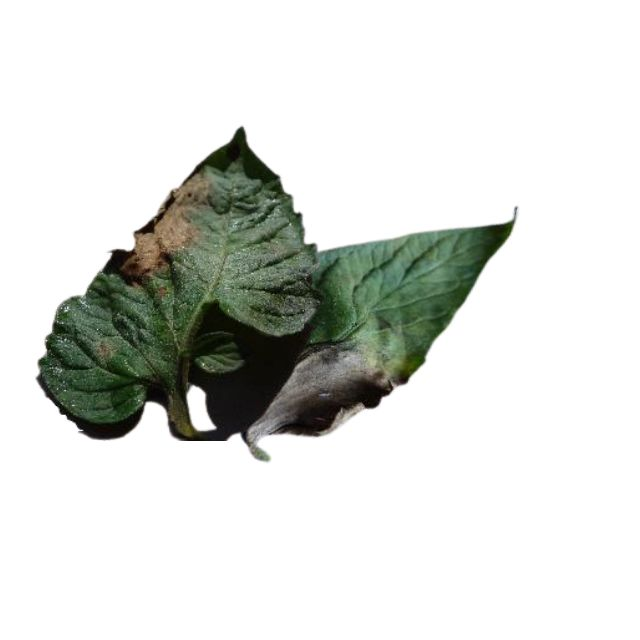Late_blight: (247, 342, 410, 436), (110, 164, 216, 288), (93, 337, 115, 362)
